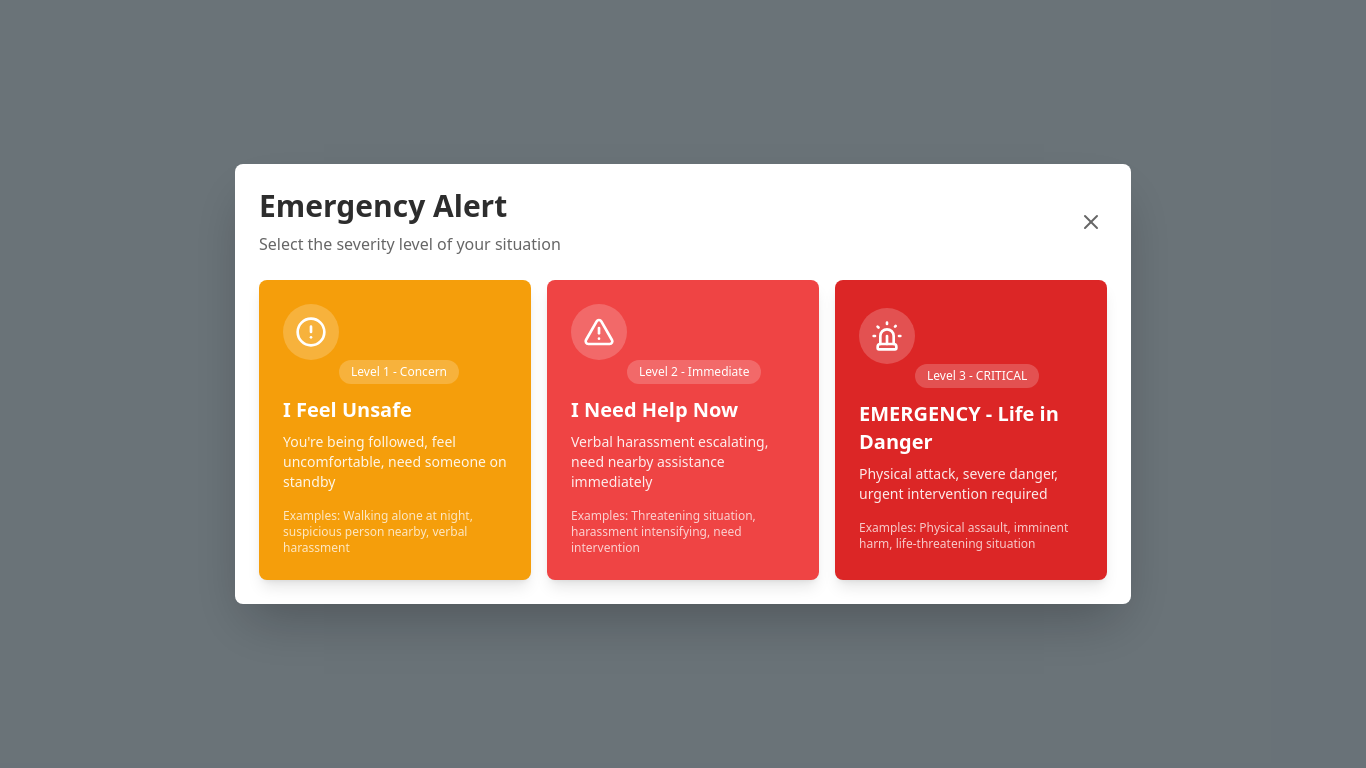
Test: Emergency Page › should show confirmation screen after selecting level
Click the heading "I Need Help Now" at (655, 410), box [571,396,738,423]
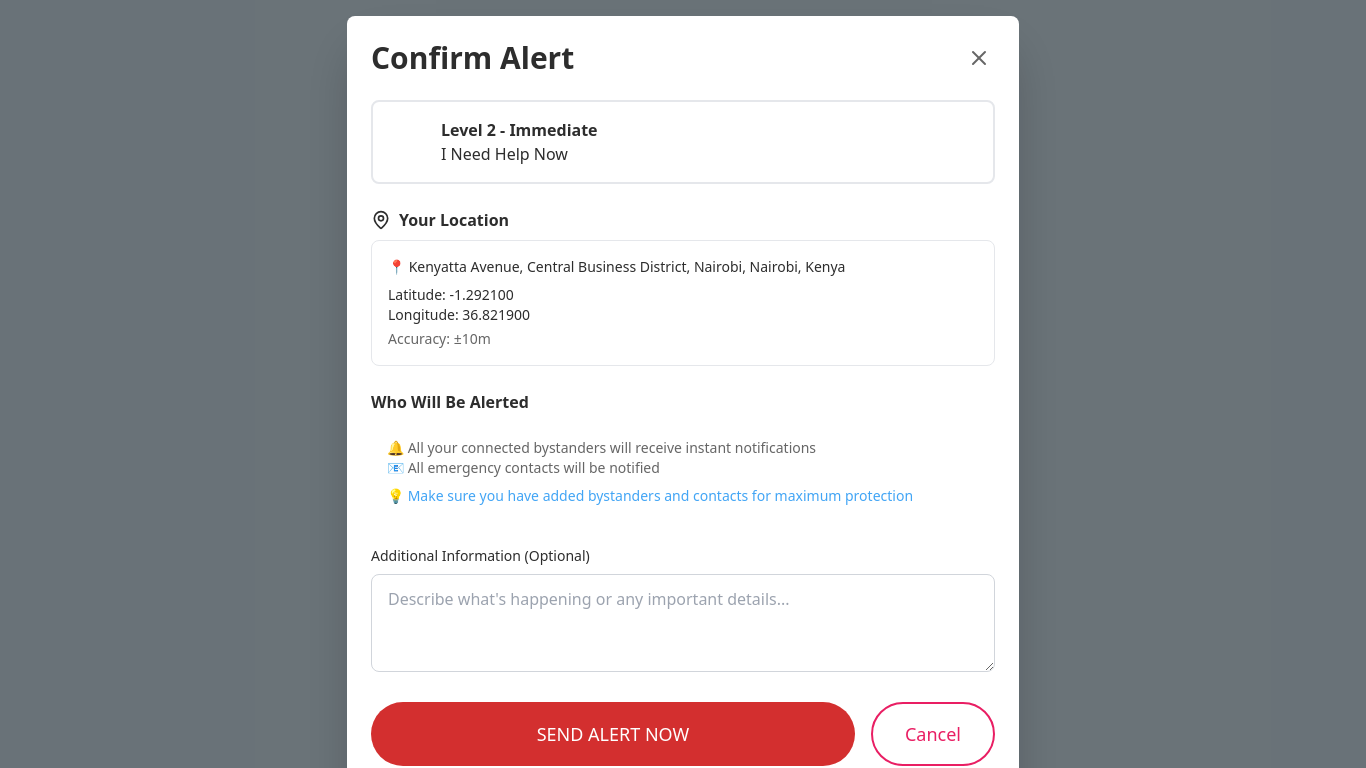
Check: the heading "Confirm Alert" is shown, box [371,40,574,76]
Check: the heading "Your Location" is shown, box [399,208,509,232]
